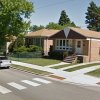crosswalk: (0, 77, 51, 93)
